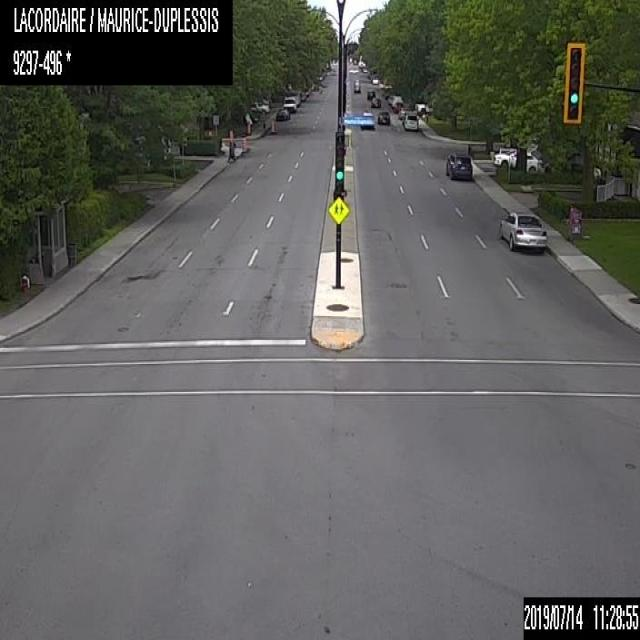construction: (242, 136, 246, 152), (229, 128, 233, 142), (270, 120, 274, 134), (246, 120, 250, 133)
pedestrian: (228, 140, 234, 162)
vehicle: (498, 209, 548, 252), (493, 148, 538, 170), (444, 153, 474, 180), (415, 101, 434, 115), (403, 112, 418, 129), (282, 96, 296, 112), (252, 100, 269, 112), (275, 107, 289, 120), (377, 111, 391, 124), (398, 107, 412, 119), (390, 94, 400, 108), (291, 92, 300, 106), (393, 100, 404, 110), (352, 80, 361, 92), (370, 96, 380, 106), (370, 74, 378, 84), (367, 89, 375, 99), (347, 67, 358, 74), (299, 92, 305, 100), (316, 73, 322, 80), (362, 66, 367, 71)
